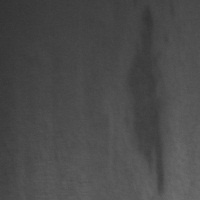inclusion: (123, 3, 167, 198)
